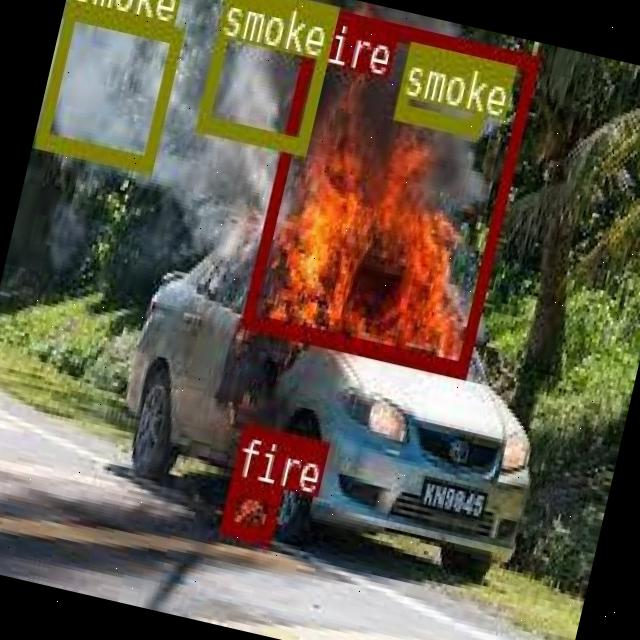fire: (239, 3, 536, 374), (218, 475, 280, 540)
smoke: (35, 1, 182, 171), (196, 0, 336, 150), (393, 41, 493, 134)
